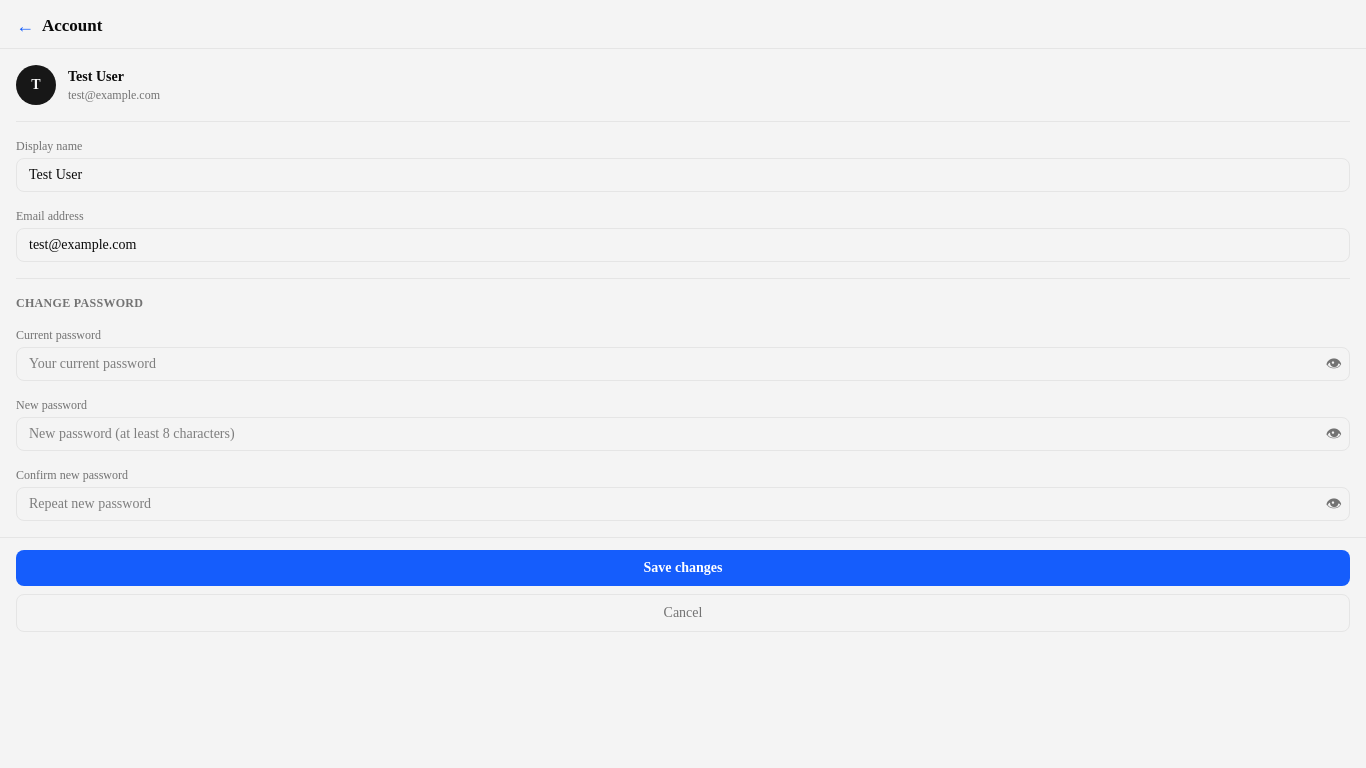
Test case: MobileAccount › shows validation error for invalid email
The width and height of the screenshot is (1366, 768).
Replace the text in the field showing "test@example.com" below "Email address" with "bad-email" at (683, 245), box [16,228,1350,262]
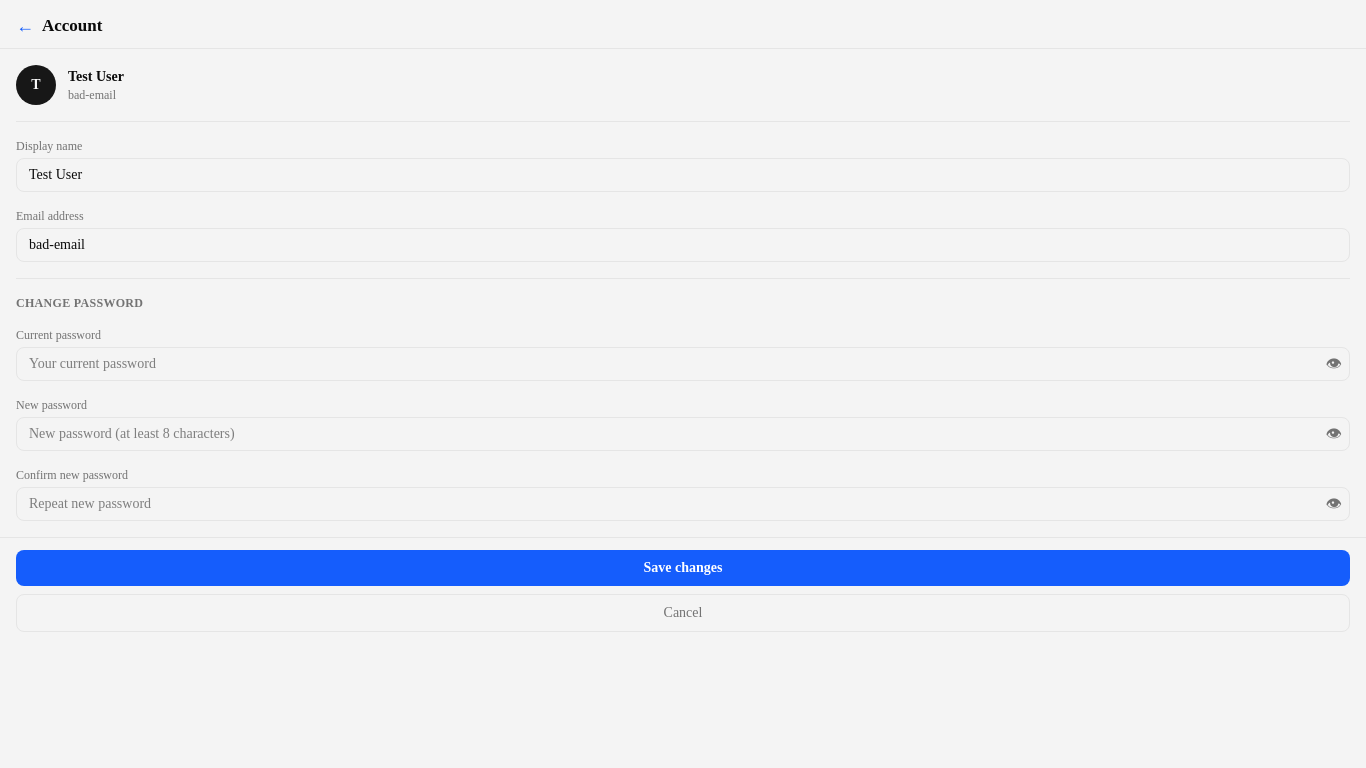
Click the button "Save changes".
click(683, 568)  # box [16,550,1350,586]
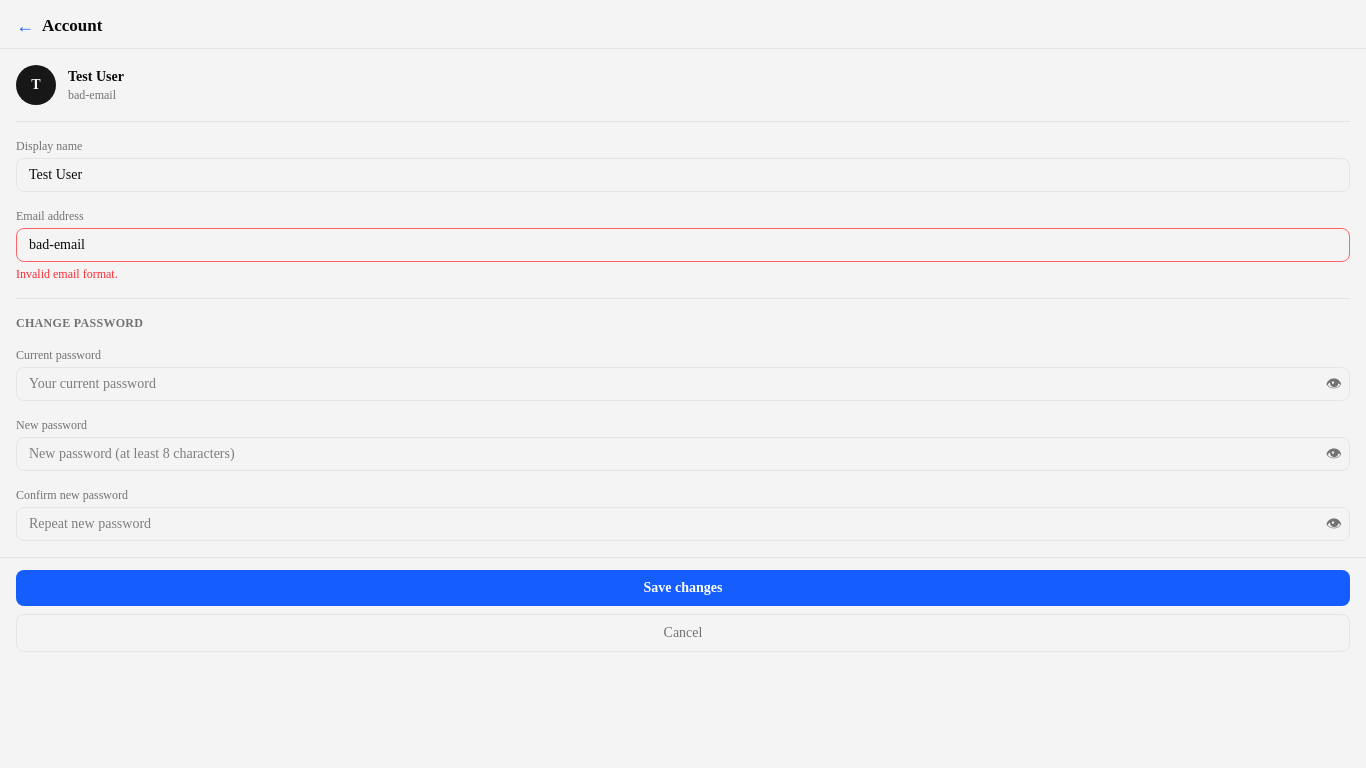
Expected: the text "Invalid email format." is shown, [16,267,118,281]
